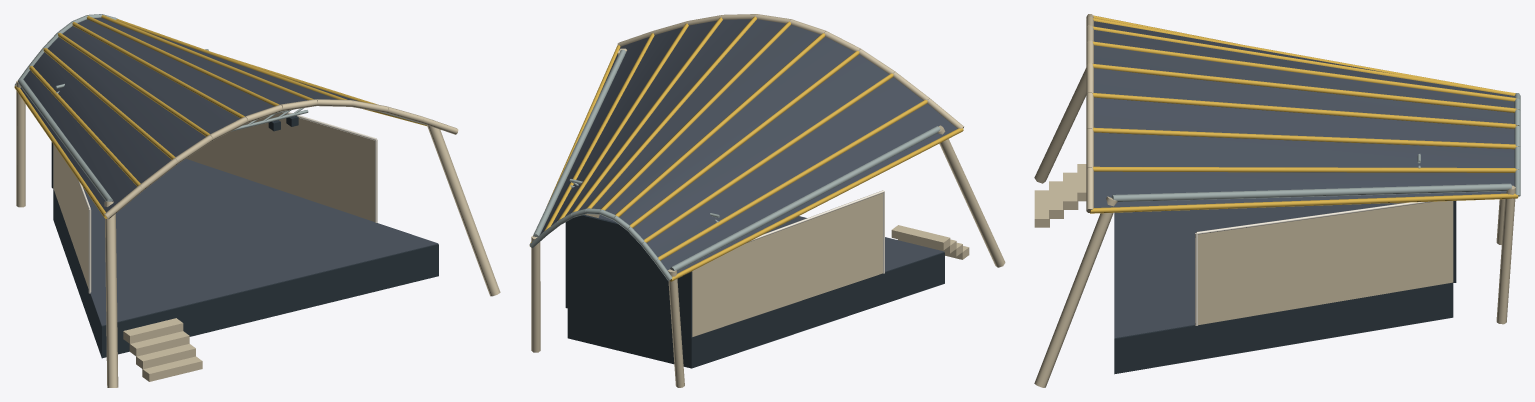
Rendered from vondelpark-open-air-theater.glb.
The picture shows the model from 3 angles, left to right: view 1: azimuth 30°, elevation 25°; view 2: azimuth 150°, elevation 25°; view 3: azimuth 270°, elevation 25°; orthographic projection. The views are drawn at different scales.
Visible parts, largest first — view 1: vondelpark-open-air-theater; view 2: vondelpark-open-air-theater; view 3: vondelpark-open-air-theater.
Boxes of the visible parts, x1=… form: vondelpark-open-air-theater: x1=14, y1=14, x2=500, y2=387; vondelpark-open-air-theater: x1=529, y1=14, x2=1005, y2=387; vondelpark-open-air-theater: x1=1034, y1=14, x2=1520, y2=387.
Size of the model in its own units: 15.43 by 8.34 by 15.07.
